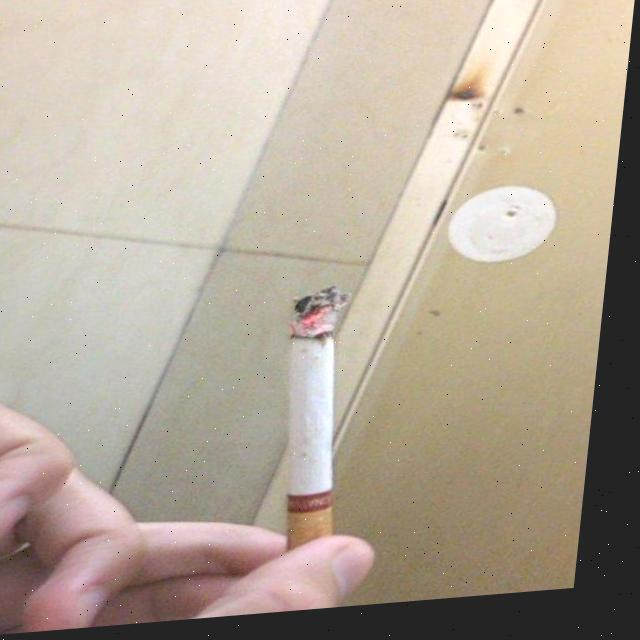cigarette: (280, 292, 363, 560)
